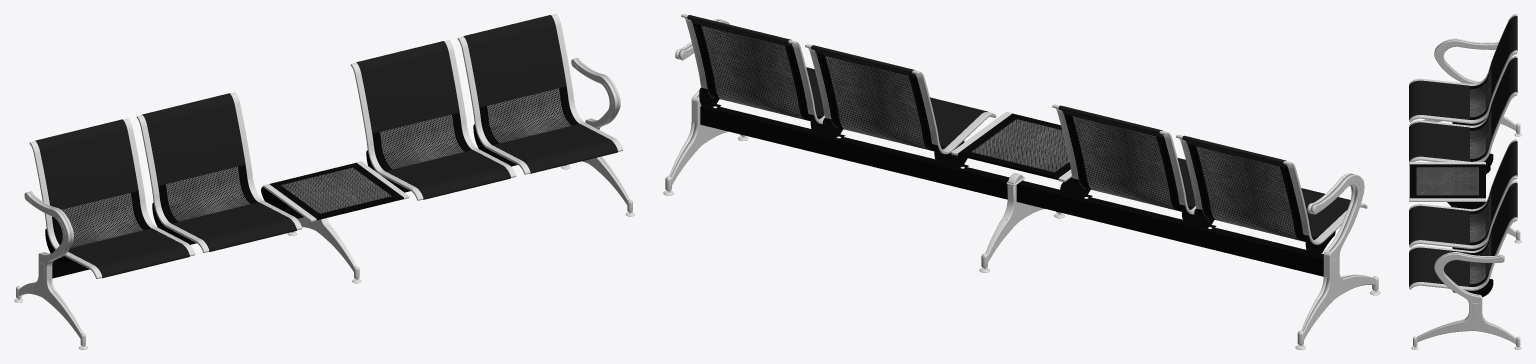
Rendered from kursi tunggu 1.fbx.
3 renders of one model, left to right at view 1: azimuth 30°, elevation 25°; view 2: azimuth 150°, elevation 25°; view 3: azimuth 270°, elevation 25°, orthographic. The views are drawn at different scales.
Parts seen in each view (by area): view 1: Group#1, Group#1.001, Group#1.002, Group#1.003, Component#2, Component#2.001, Component#2.002, Component#22, Component#2.003, Component#11.002, Component#20, Component#11.001 (+11 smaller); view 2: Component#6, Component#2.002, Component#2, Component#2.003, Component#2.001, Component#22, Component#11.002, Group#1.002, Group#1.003, Component#20, Group#1, Group#1.001 (+15 smaller); view 3: Group#1.001, Group#1.002, Group#1.003, Group#1, Component#11, Component#22, Component#20, Component#11.003, Component#2.002, Component#2.001, Component#2.003, Group#4.005 (+14 smaller).
Part boxes in pixels (x1,y1,x2,y2): Group#1: (463,15,617,173); Group#1.001: (142,93,296,251); Group#1.002: (356,41,510,199); Group#1.003: (35,119,189,278); Component#2: (487,88,571,143); Component#2.001: (165,166,250,221); Component#2.002: (380,114,464,169); Component#22: (281,167,391,213); Component#2.003: (61,193,143,247); Component#11.002: (18,192,81,338); Component#20: (269,162,403,220); Component#11.001: (571,58,628,204); Component#6: (700,106,1323,276); Component#2.002: (825,55,927,149); Component#2: (701,25,804,119); Component#2.003: (1196,146,1299,240); Component#2.001: (1072,116,1175,210); Component#22: (972,119,1069,172); Component#11.002: (1303,174,1375,339); Group#1.002: (811,45,987,146); Group#1.003: (1182,135,1350,237); Component#20: (957,113,1070,180); Group#1: (687,15,824,116); Group#1.001: (1058,105,1195,207); Group#1.001: (1409,57,1517,161); Group#1.002: (1409,141,1517,245); Group#1.003: (1409,16,1517,119); Group#1: (1409,182,1517,286); Component#11: (1416,253,1516,343); Component#22: (1416,167,1478,195); Component#20: (1409,164,1485,198); Component#11.003: (1424,39,1516,130); Component#2.002: (1470,193,1491,242); Component#2.001: (1470,110,1491,158); Component#2.003: (1470,68,1491,117); Group#4.005: (1409,175,1517,249).
Bounding box in the file's own units: 295 × 79.95 × 65.09.
8 materials, 2 textured.
